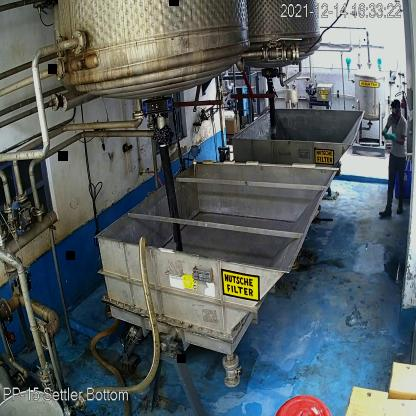shoes: (378, 201, 391, 219), (394, 197, 404, 219)
